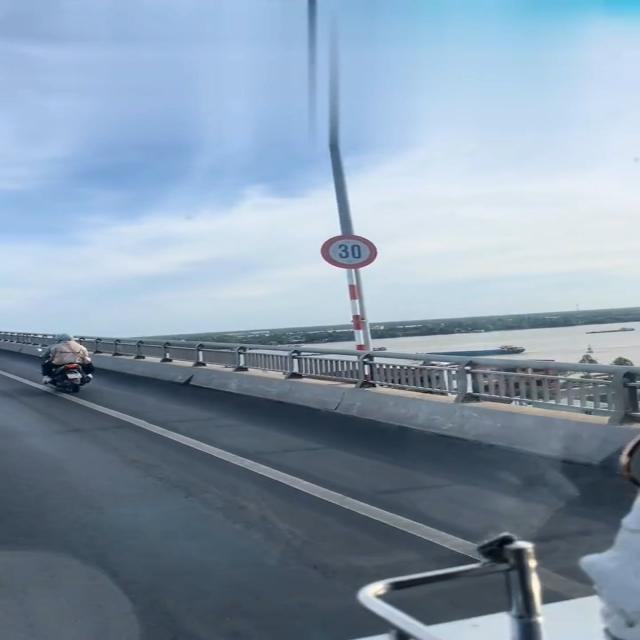127-toc-do-toi-da-30: (321, 235, 379, 269)
